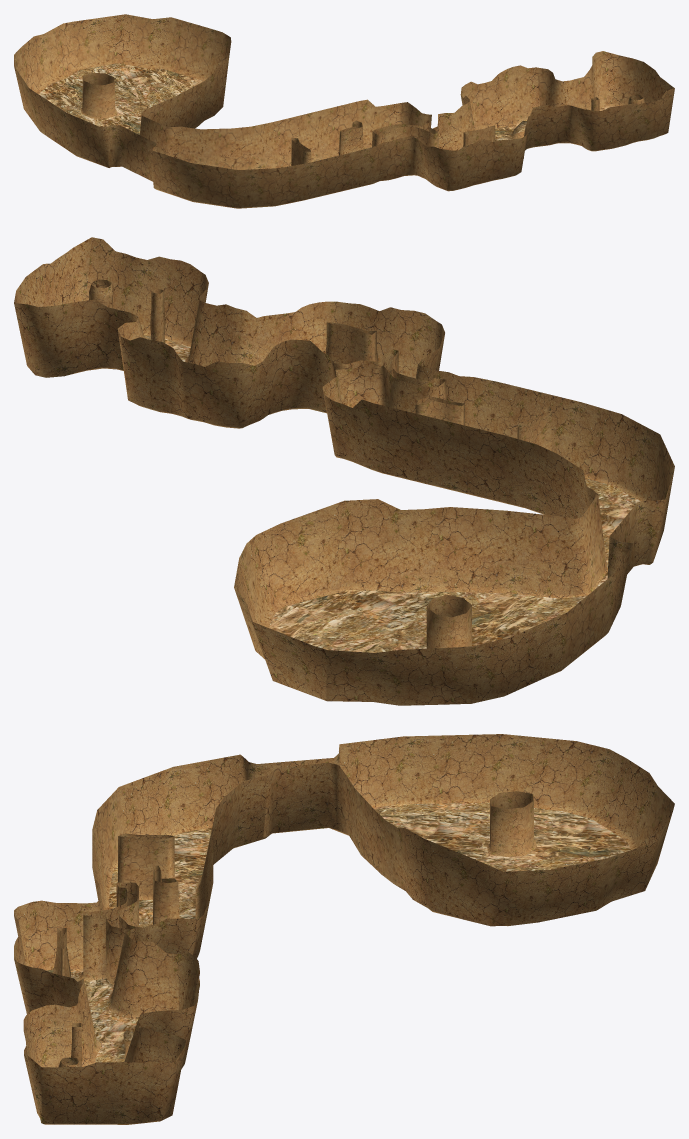
The model's file is Mesh_CanyonFinal.DAE.
3 views of the same model, one above another, from view 1: azimuth 30°, elevation 25°; view 2: azimuth 150°, elevation 25°; view 3: azimuth 270°, elevation 25° (orthographic). The views are drawn at different scales.
Parts seen in each view (by area): view 1: Plan02; view 2: Plan02; view 3: Plan02.
Part boxes in pixels (x1,y1,x2,y2): Plan02: (14,14,674,208); Plan02: (14,237,674,705); Plan02: (14,734,674,1124).
Bounding box in the file's own units: 1561 × 1303 × 169.
